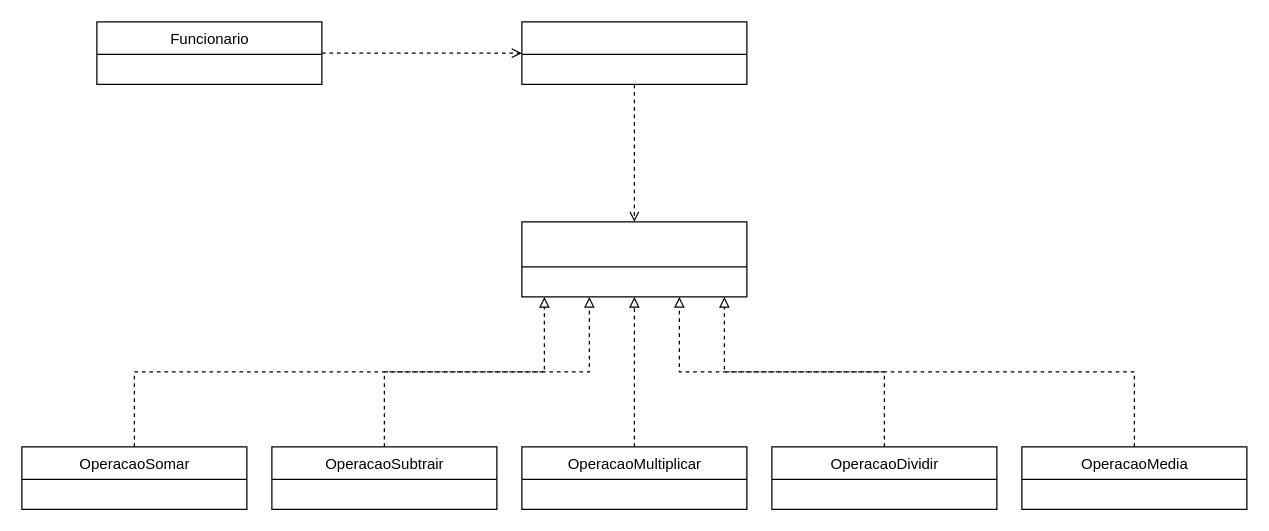
This 1269x531 diagram has some shape labels left out. The box of each missing label's shape, as (x1, y1, x2, y2) in pixels:
<<interface>> Operacao: (521, 221, 747, 297)
Calculadora: (521, 21, 747, 84)
